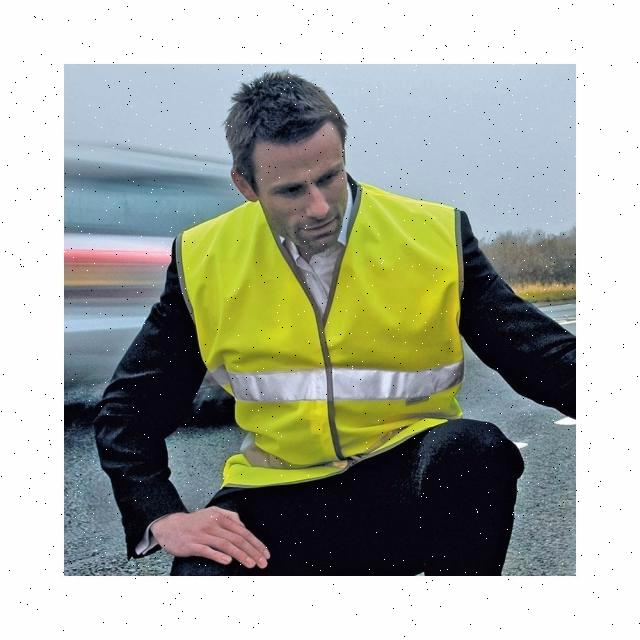Person: (178, 195, 458, 492)
